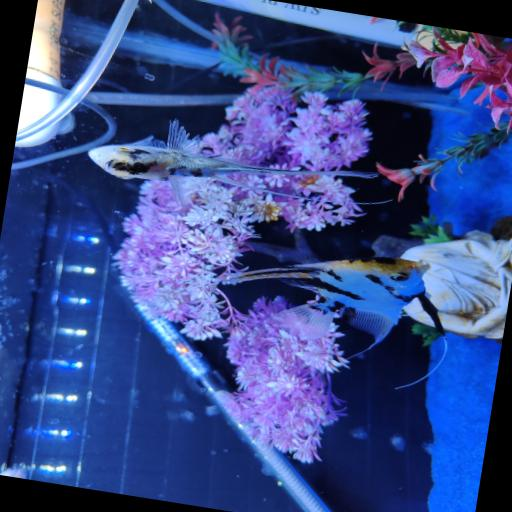Fish: (89, 120, 378, 205), (227, 256, 445, 347), (0, 467, 27, 478)
